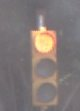Red: (29, 24, 61, 109)
